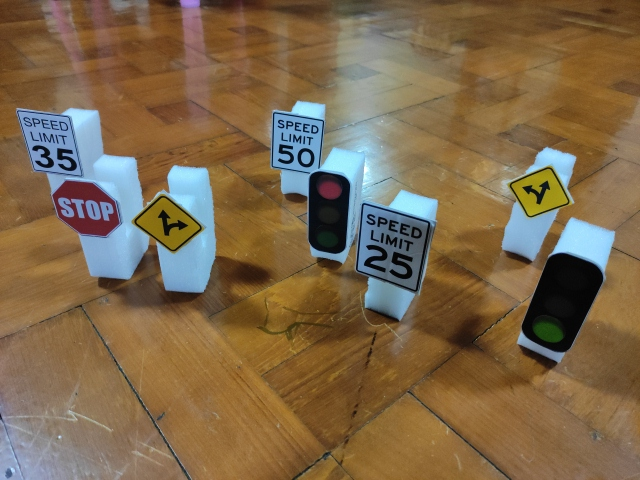Green Traffic Light: (520, 253, 604, 352)
Red Traffic Light: (307, 170, 351, 254)
Speed Limit 25: (355, 203, 431, 295)
Speed Limit 35: (14, 108, 84, 177)
Speed Limit 50: (270, 112, 325, 173)
Stop Sign: (50, 177, 121, 238)
Straight Or Left Sign: (507, 164, 574, 219)
Straight Or Right Sign: (133, 193, 206, 254)
